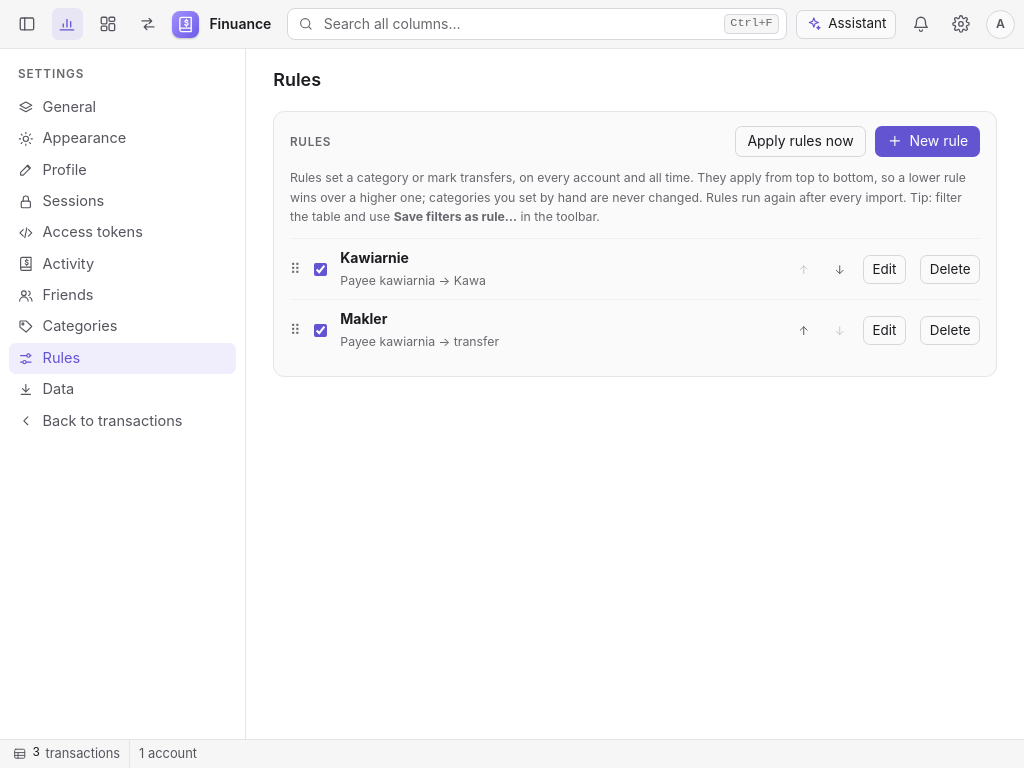
Test: Settings → Rules › creates a rule with a live preview, and needs a match and an action first
Click the button "New rule". click: (928, 141)
box: [875, 126, 980, 157]
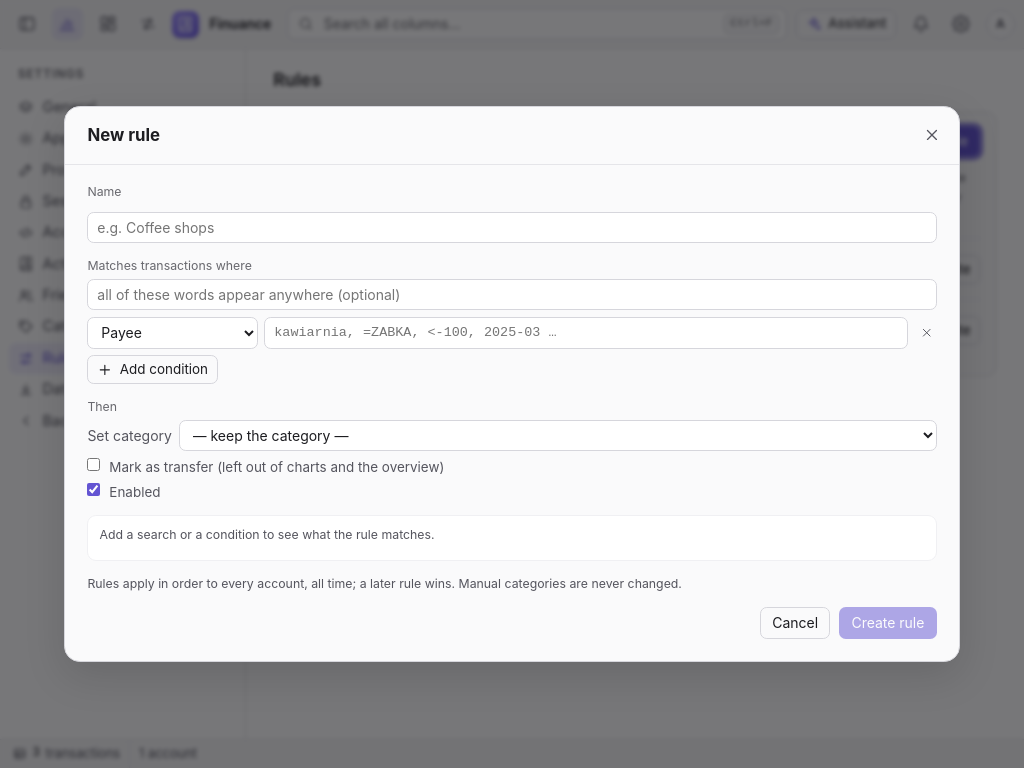
Result: the button "Create rule" is disabled at [839, 608, 937, 639]
Result: the text "Add a search or a condition to see what the rule matches." is shown at [100, 526, 435, 542]
Type "Kawiarnie" into the field named "Rule name". click: (512, 228)
box: [87, 212, 937, 243]
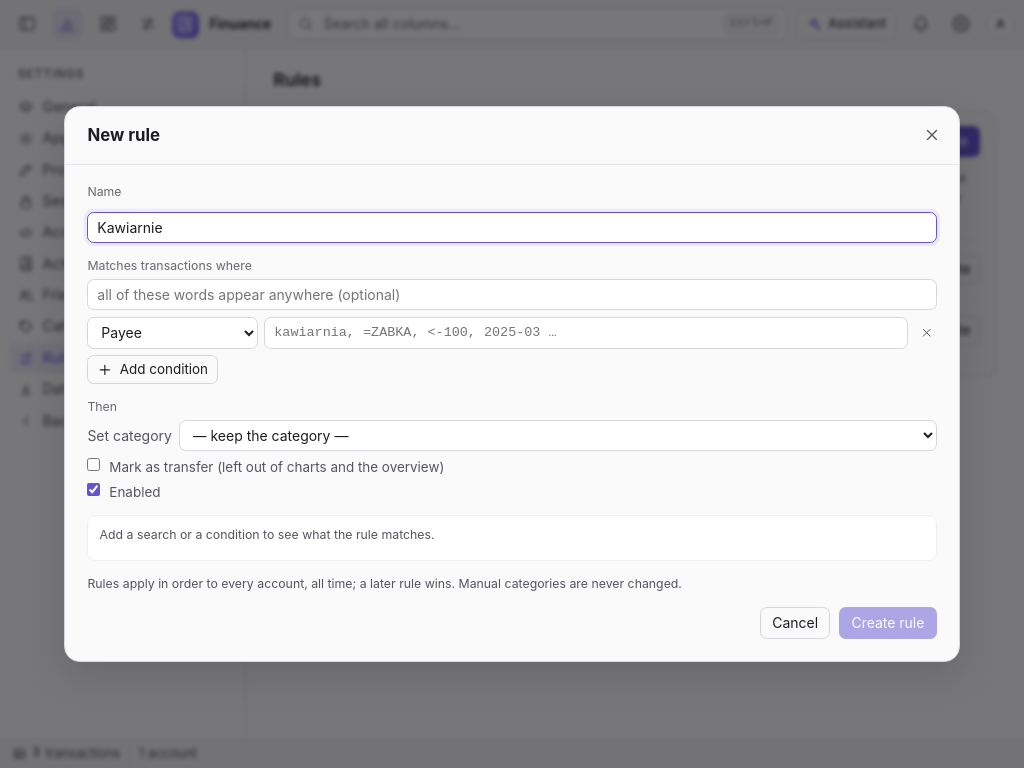
Type "kawiarnia" into the field named "Condition 1". click: (586, 333)
box: [264, 317, 908, 348]
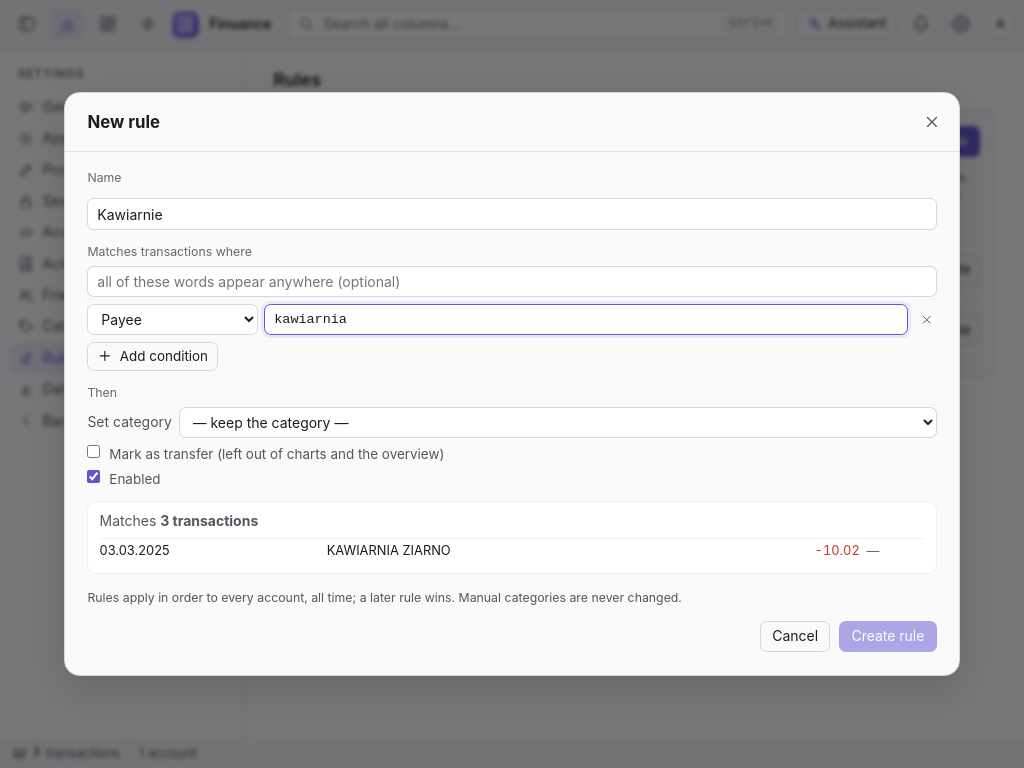
Result: the button "Create rule" is disabled at [839, 621, 937, 652]
Result: the text "3 transactions" is shown at [160, 512, 258, 529]
Select "Kawa" in the dropdown named "Category to set". click: (558, 422)
box: [179, 407, 937, 438]
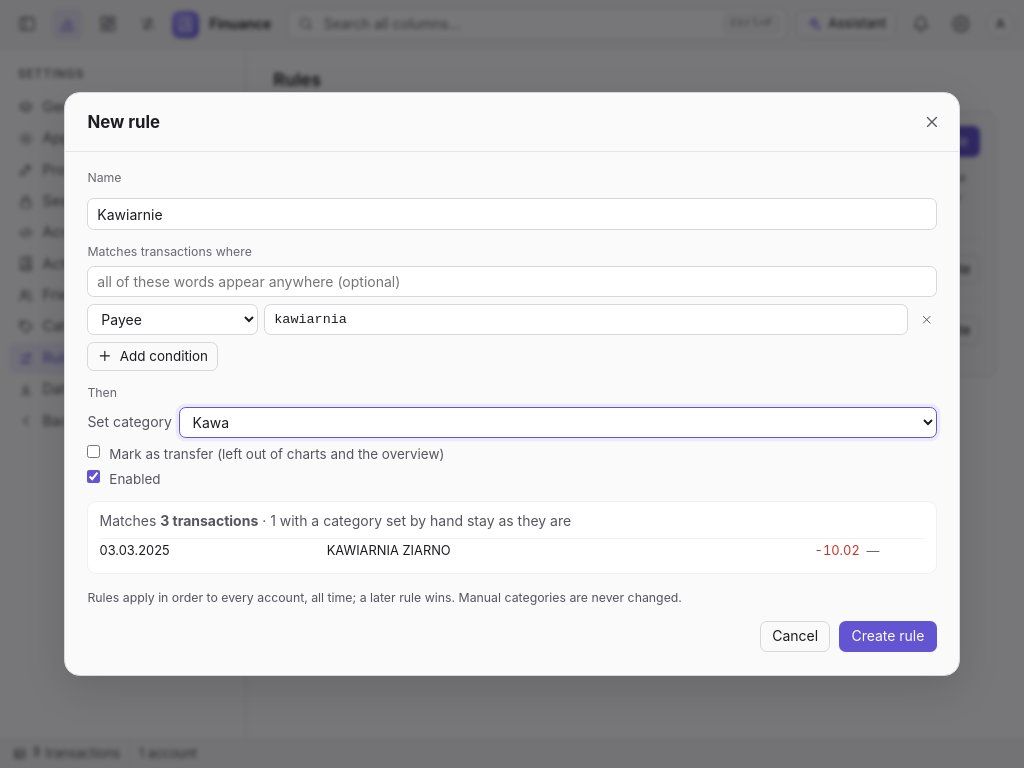
Result: the text "1 with a category set by hand stay as they are" is shown at [258, 512, 571, 529]
Click the button "Create rule". click: (888, 637)
box: [839, 621, 937, 652]
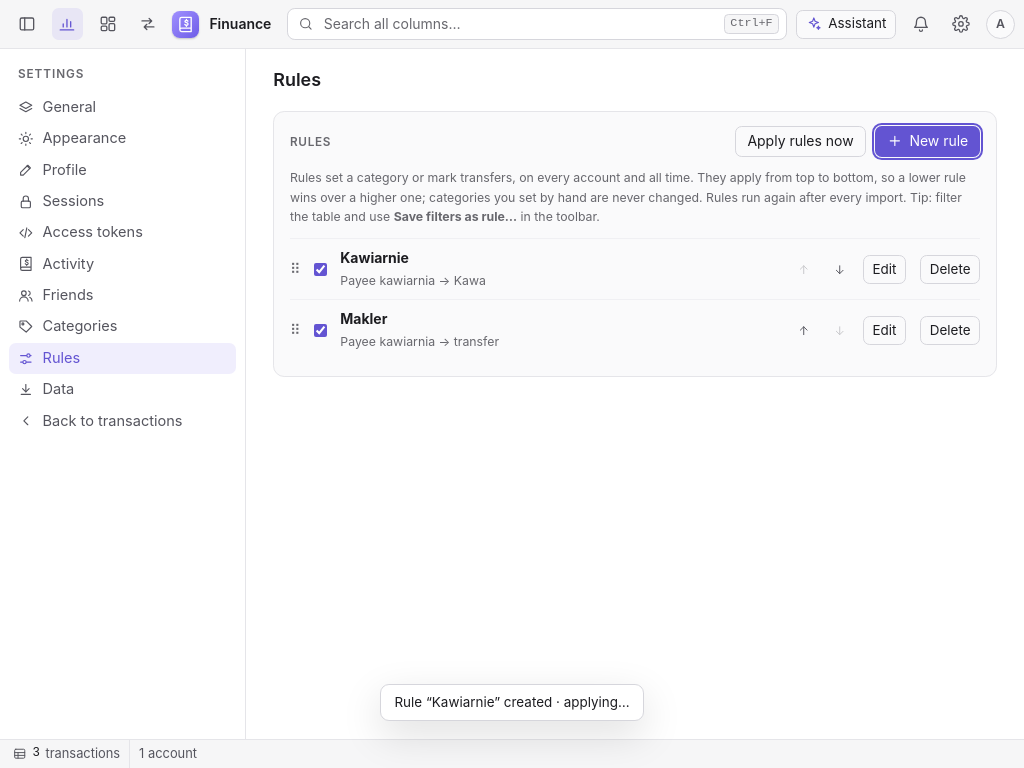
Result: the text "Rule “Kawiarnie” created · applying…" is shown at [380, 684, 644, 721]
